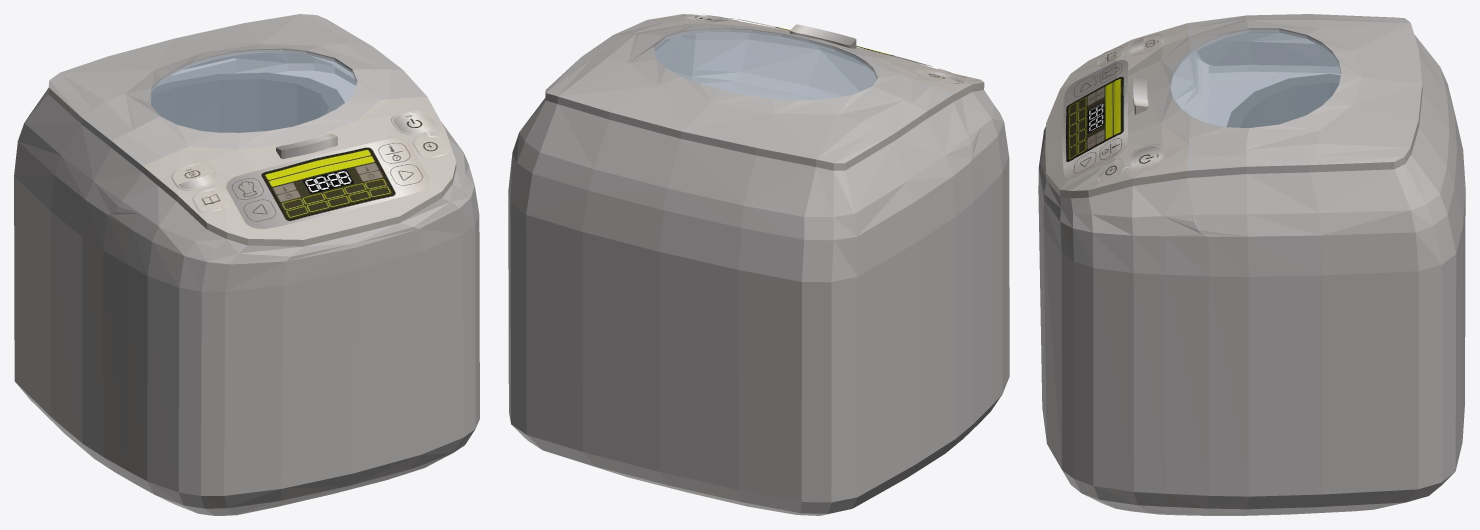
The model's file is sh-scopia-cooker.glb.
3 views of the same model, side by side, from view 1: azimuth 30°, elevation 25°; view 2: azimuth 150°, elevation 25°; view 3: azimuth 270°, elevation 25° (orthographic). The views are drawn at different scales.
Parts seen in each view (by area): view 1: Base_Cube, Controls_Plane, sweethome3d_opening_on_hinge_1_glass, pot_Circle; view 2: Base_Cube, sweethome3d_opening_on_hinge_1_glass, Controls_Plane; view 3: Base_Cube, sweethome3d_opening_on_hinge_1_glass, Controls_Plane, pot_Circle.
Boxes of the visible parts, x1=… form: Base_Cube: x1=14, y1=14, x2=479, y2=515; Controls_Plane: x1=171, y1=111, x2=449, y2=228; sweethome3d_opening_on_hinge_1_glass: x1=149, y1=50, x2=356, y2=132; pot_Circle: x1=151, y1=73, x2=344, y2=132; Base_Cube: x1=508, y1=14, x2=1009, y2=515; sweethome3d_opening_on_hinge_1_glass: x1=654, y1=29, x2=877, y2=99; Controls_Plane: x1=678, y1=14, x2=977, y2=83; Base_Cube: x1=1038, y1=14, x2=1465, y2=515; sweethome3d_opening_on_hinge_1_glass: x1=1169, y1=30, x2=1340, y2=128; Controls_Plane: x1=1061, y1=34, x2=1163, y2=183; pot_Circle: x1=1226, y1=74, x2=1340, y2=127.
Size of the model in its own units: 1 by 1 by 1.
Materials: 5 (1 with a texture image).
